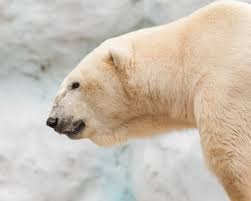PolarBear: (45, 0, 251, 201)
